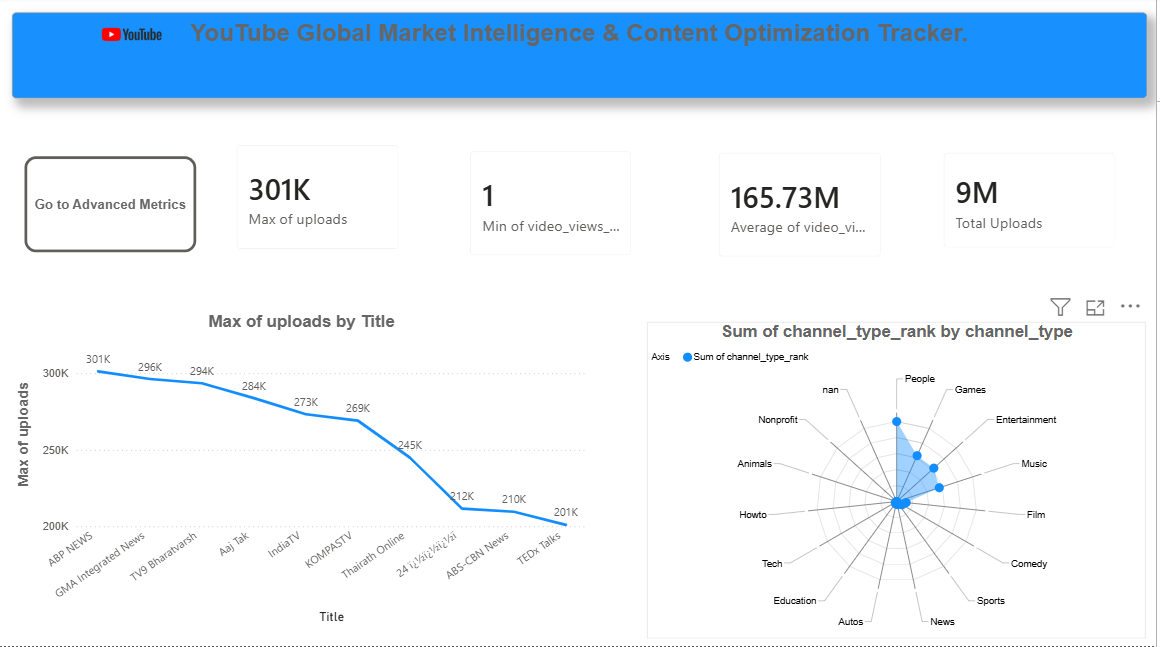

Layout of this report page (visuals, bound fields, positions):
{"tool":"powerbi","page":{"name":"Page 1","canvas":[1280,720],"ordinal":0},"visuals":[{"type":"cardVisual","fields":{"Data":["Max(Global YouTube Statistics.uploads)"]},"box":[247,147.9,213.5,149.3],"z":0},{"type":"cardVisual","fields":{"Data":["Min(Global YouTube Statistics.video_views_rank)"]},"box":[505.1,154.9,212.1,149.3],"z":1000},{"type":"cardVisual","fields":{"Data":["Avg(Global YouTube Statistics.video_views_for_the_last_30_days)"]},"box":[779.9,156.3,213.5,149.3],"z":2000},{"type":"lineChart","fields":{"Category":["Global YouTube Statistics.Title"],"Y":["Max(Global YouTube Statistics.uploads)"]},"box":[15.3,348.8,640.4,350.2],"z":3000},{"type":"RadarChart1446119667547","fields":{"Category":["Global YouTube Statistics.channel_type"],"Y":["Sum(Global YouTube Statistics.channel_type_rank)"]},"box":[717.1,360,552.5,350.2],"z":4000},{"type":"cardVisual","fields":{"Data":["Global YouTube Statistics.Total Uploads"]},"box":[1028.3,156.3,223.2,139.5],"z":5000},{"type":"textbox","box":[15.3,18.1,1254.3,94.9],"z":6000},{"type":"actionButton","box":[29.3,177.2,189.7,106],"z":7000},{"type":"image","box":[58.6,0,178.6,85.1],"z":8000}]}

Visuals, with their boxes in screenshot pixels (x1, y1, x2, y2), scaled from the page's 1280x720 canvas onto the 1160x647 screenshot:
cardVisual - Max(Global YouTube Statistics.uploads): 224, 133, 417, 267
cardVisual - Min(Global YouTube Statistics.video_views_rank): 458, 139, 650, 273
cardVisual - Avg(Global YouTube Statistics.video_views_for_the_last_30_days): 707, 140, 900, 275
lineChart - Global YouTube Statistics.Title x Max(Global YouTube Statistics.uploads): 14, 313, 594, 628
RadarChart1446119667547 - Global YouTube Statistics.channel_type x Sum(Global YouTube Statistics.channel_type_rank): 650, 324, 1151, 638
cardVisual - Global YouTube Statistics.Total Uploads: 932, 140, 1134, 266
textbox: 14, 16, 1151, 102
actionButton: 27, 159, 198, 254
image: 53, 0, 215, 76
